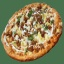pizza: (1, 4, 62, 59)
